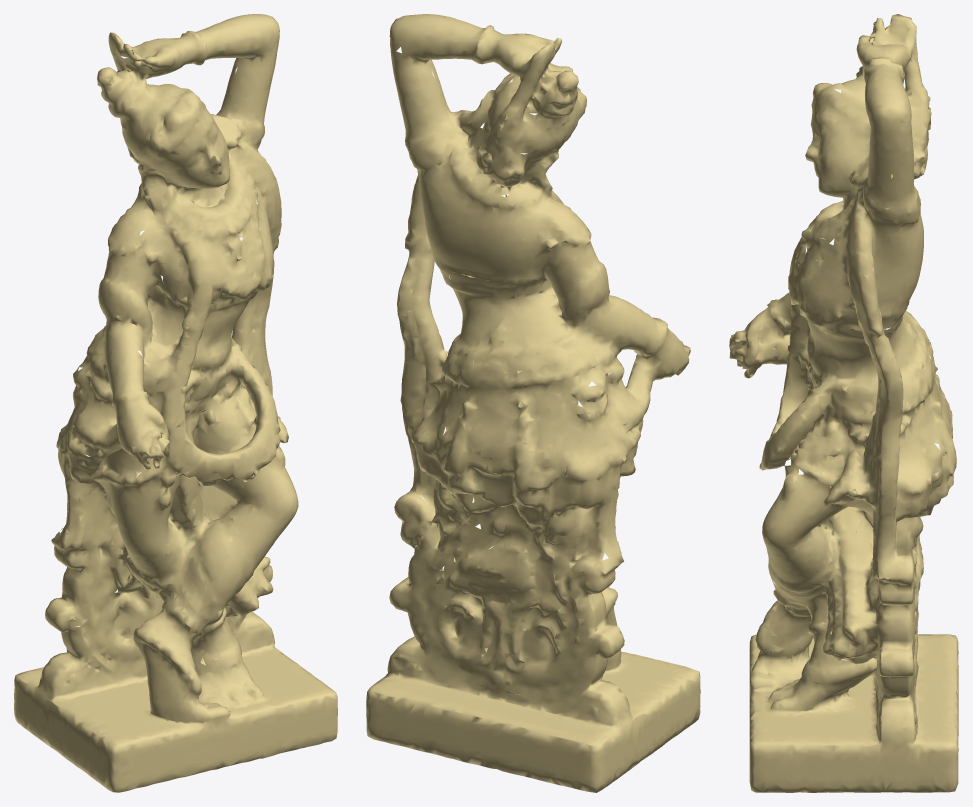
File: bodhisattva-dancing.glb
The picture shows the model from 3 angles, left to right: view 1: azimuth 30°, elevation 25°; view 2: azimuth 150°, elevation 25°; view 3: azimuth 270°, elevation 25°; orthographic projection. The views are drawn at different scales.
Size of the model in its own units: 0.6677 by 1.9 by 0.5591.
